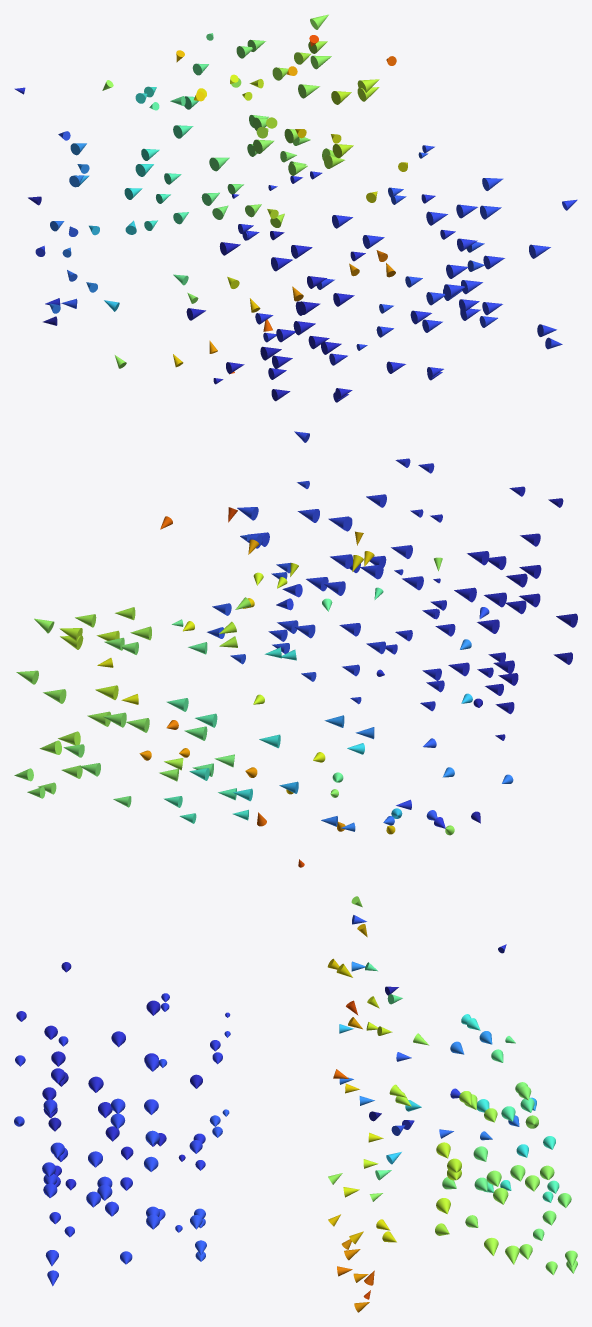
The model's file is LineasCorrienteN2-H2O_mh2-5.58_V-0.9.glb.
3 views of the same model, one above another, from view 1: azimuth 30°, elevation 25°; view 2: azimuth 150°, elevation 25°; view 3: azimuth 270°, elevation 25° (orthographic). The views are drawn at different scales.
Bounding box in the file's own units: 0.000966 × 0.000811 × 0.0012.
2 materials, 2 textured.
